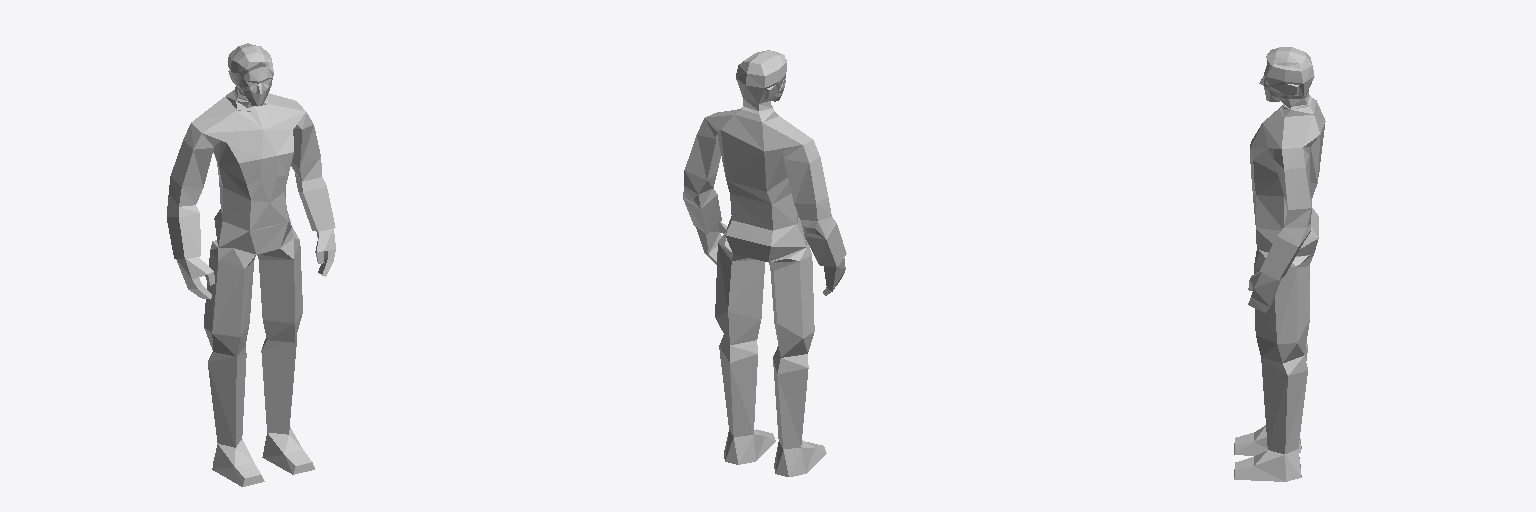
Rendered from Manuel113.obj.
3 renders of one model, left to right at view 1: azimuth 30°, elevation 25°; view 2: azimuth 150°, elevation 25°; view 3: azimuth 270°, elevation 25°, orthographic.
Visible parts, largest first — view 1: leon; view 2: leon; view 3: leon.
Boxes of the visible parts, x1=… form: leon: x1=167, y1=43, x2=335, y2=486; leon: x1=683, y1=50, x2=846, y2=476; leon: x1=1234, y1=47, x2=1325, y2=481.
Bounding box in the file's own units: 4.68 × 12.19 × 2.45.